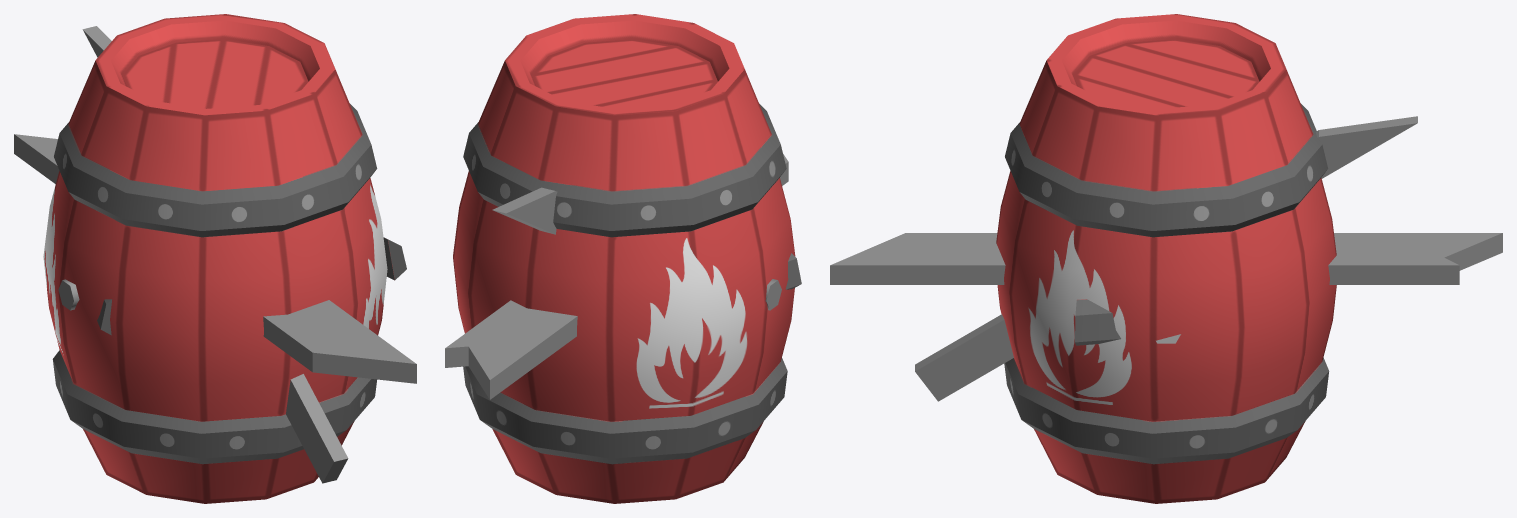
Rendered from prop_Bombcart_pieces.fbx.
The picture shows the model from 3 angles, left to right: view 1: azimuth 30°, elevation 25°; view 2: azimuth 150°, elevation 25°; view 3: azimuth 270°, elevation 25°; orthographic projection.
Visible parts, largest first — view 1: Cartpiece02, Cartpiece10, Cartpiece09, Cartpiece06, Cartpiece01; view 2: Cartpiece02, Cartpiece10, Cartpiece09; view 3: Cartpiece02, Cartpiece10, Cartpiece09, Cartpiece06.
Part boxes in pixels (bbox=[...]): Cartpiece02: bbox=[43, 14, 387, 503]; Cartpiece10: bbox=[14, 134, 416, 383]; Cartpiece09: bbox=[82, 26, 348, 483]; Cartpiece06: bbox=[97, 237, 406, 335]; Cartpiece01: bbox=[58, 279, 79, 310]; Cartpiece02: bbox=[453, 14, 795, 503]; Cartpiece10: bbox=[445, 154, 788, 399]; Cartpiece09: bbox=[492, 187, 557, 234]; Cartpiece02: bbox=[996, 14, 1336, 503]; Cartpiece10: bbox=[830, 233, 1502, 284]; Cartpiece09: bbox=[915, 116, 1417, 401]; Cartpiece06: bbox=[1075, 299, 1120, 345].
Bounding box in the file's own units: 74.48 × 92.65 × 145.
Materials: 2 (1 with a texture image).
